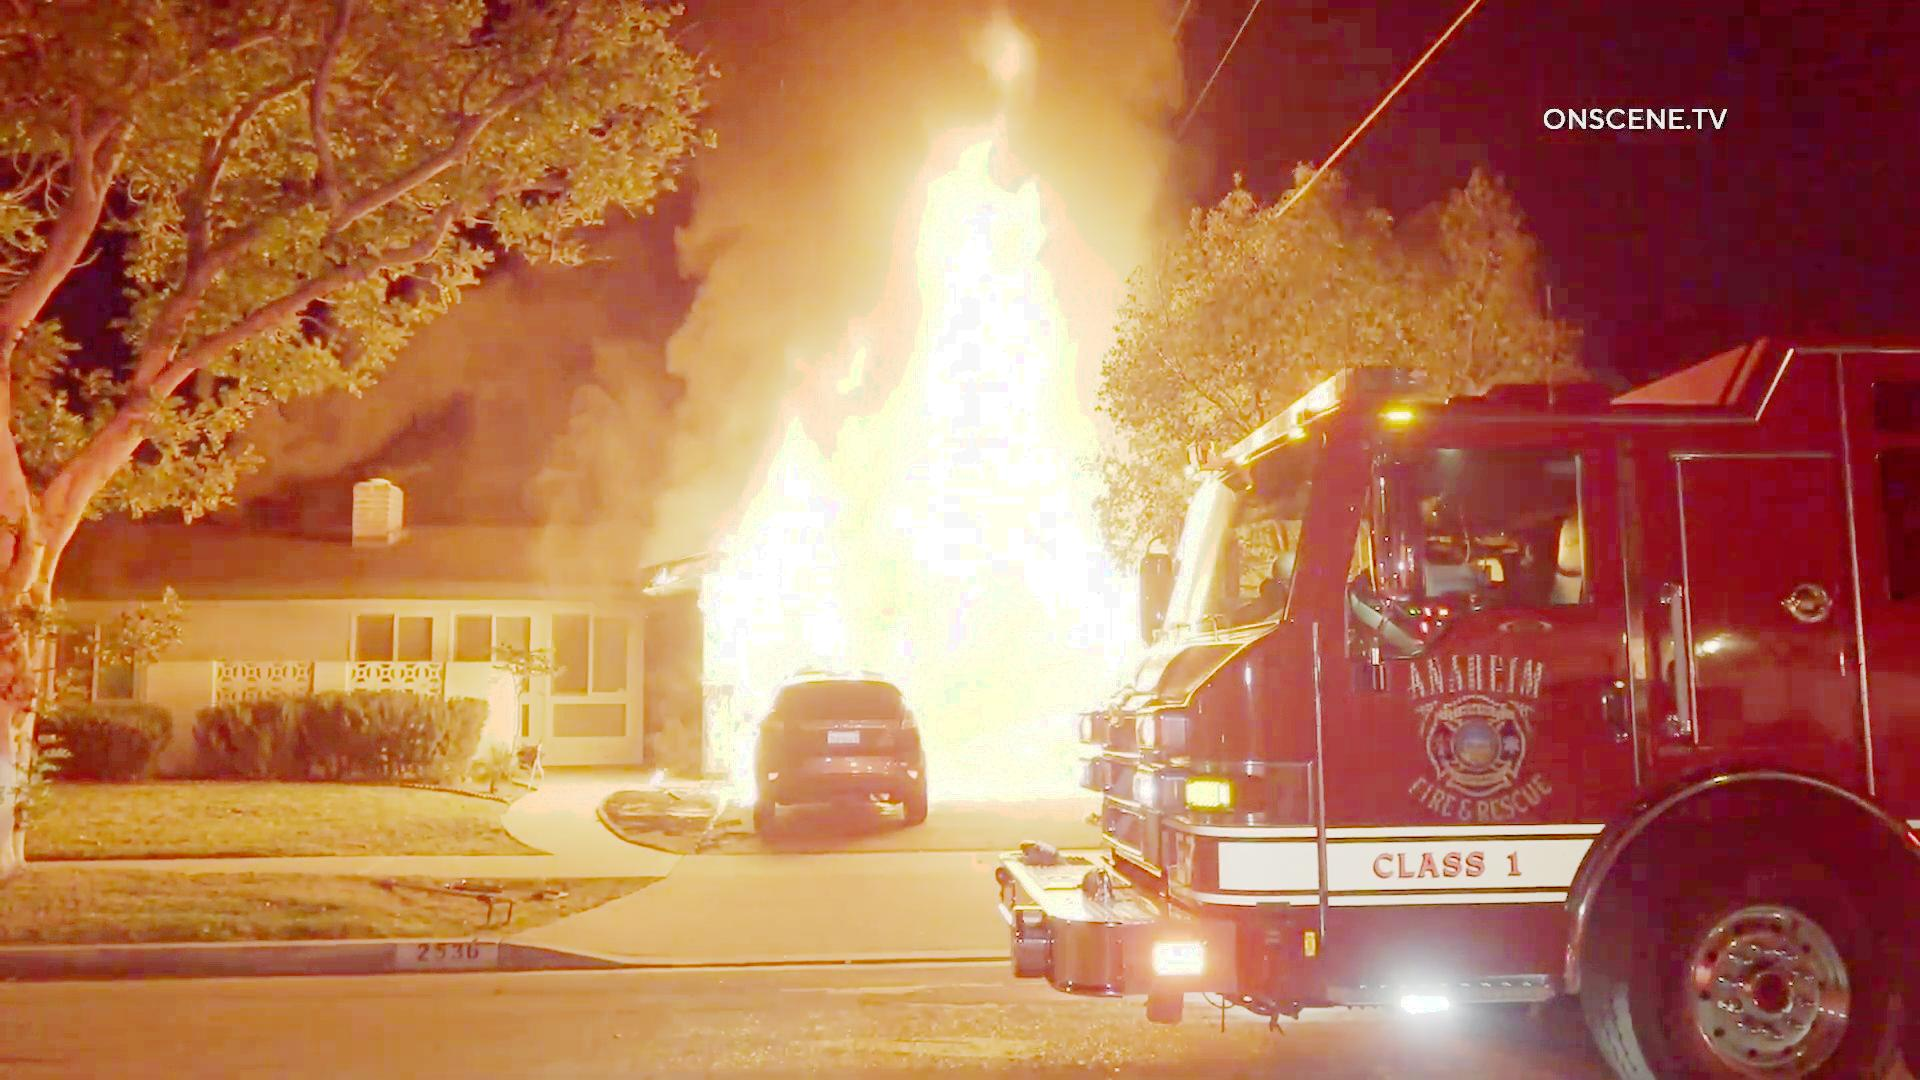fire: (845, 161, 1095, 687), (935, 0, 1091, 803), (698, 435, 845, 669)
smoke: (498, 273, 671, 546), (695, 193, 827, 402), (713, 13, 915, 149)
